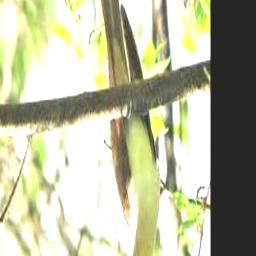Cuckoo: (93, 0, 160, 256)
